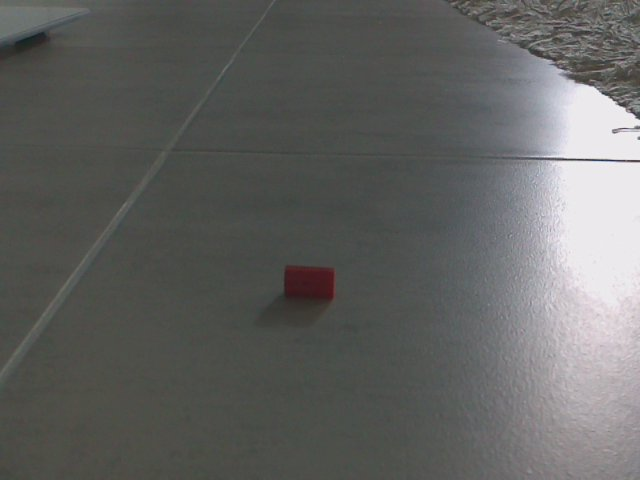Rot: (277, 257, 346, 308)
